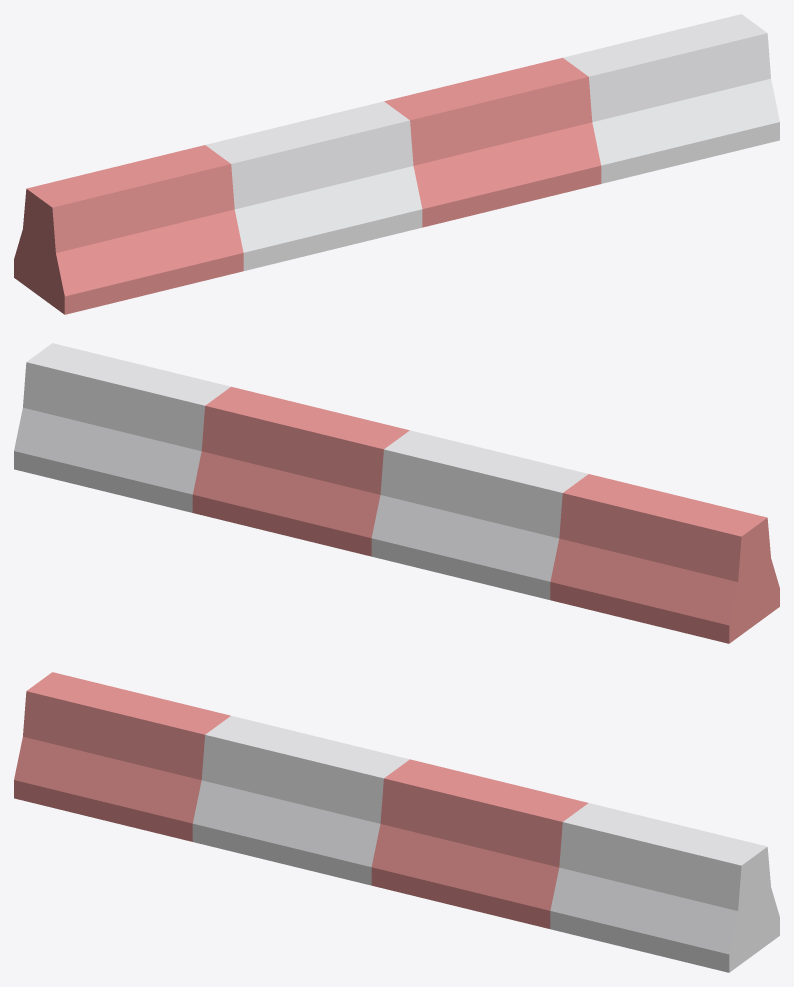
Rendered from barrierWall.gltf.
3 renders of one model, top to bottom at view 1: azimuth 30°, elevation 25°; view 2: azimuth 150°, elevation 25°; view 3: azimuth 330°, elevation 25°, orthographic.
Parts seen in each view (by area): view 1: barrierWall; view 2: barrierWall; view 3: barrierWall.
Part boxes in pixels (x1,y1,x2,y2): barrierWall: (14,14,779,314); barrierWall: (14,343,779,643); barrierWall: (14,672,779,972).
Size of the model in its own units: 10 by 1.31 by 1.23.
